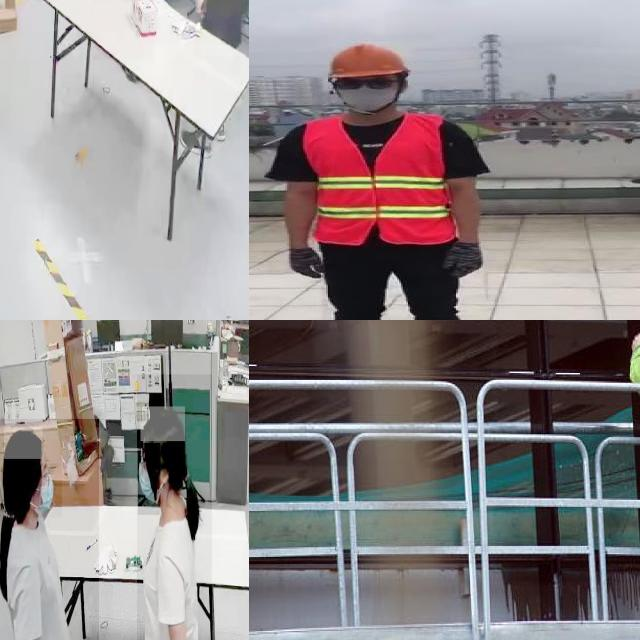face_mask: (33, 463, 62, 518), (138, 443, 160, 515)
hand_noglove: (195, 0, 206, 13)
head_helmet: (324, 42, 411, 80)
head_nohelmet: (140, 406, 186, 442), (4, 427, 43, 460)
person: (273, 39, 497, 320), (0, 418, 99, 640), (137, 374, 212, 640)
shoes: (178, 124, 212, 158)
vest: (303, 116, 453, 245)
